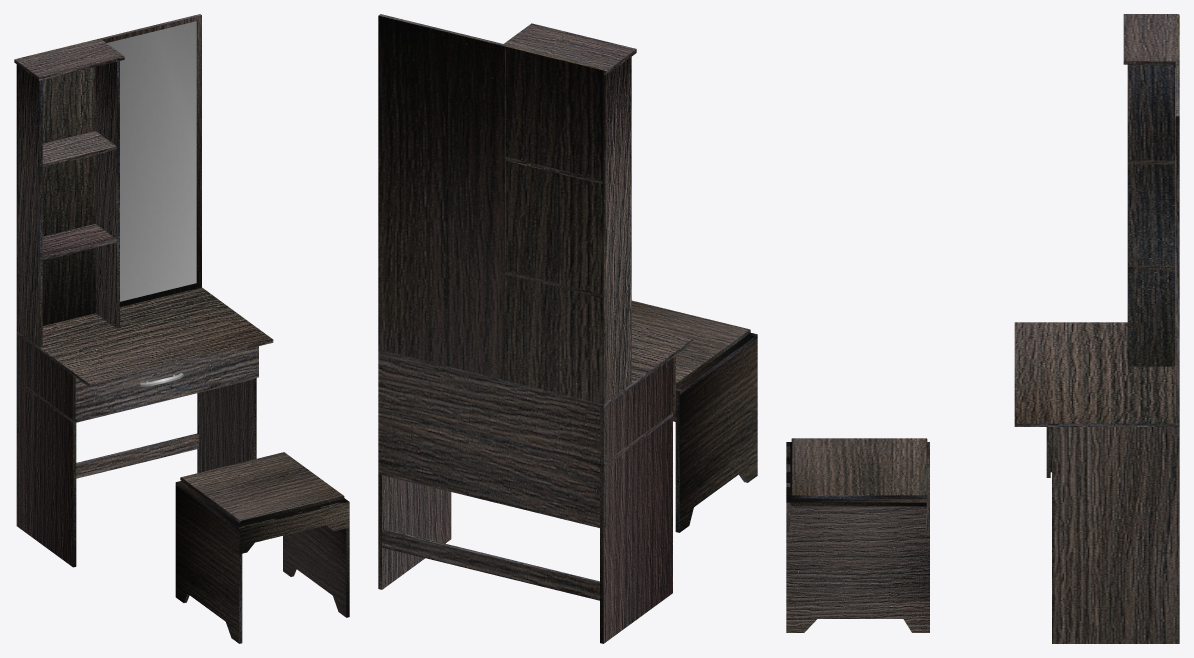
Rendered from dressing_table.obj.
The picture shows the model from 3 angles, left to right: view 1: azimuth 30°, elevation 25°; view 2: azimuth 150°, elevation 25°; view 3: azimuth 270°, elevation 25°; orthographic projection. The views are drawn at different scales.
Parts seen in each view (by area): view 1: Box010, Box025, Box017; view 2: Box010, Box025; view 3: Box010, Box025.
Part boxes in pixels (x1,y1,x2,y2): Box010: (14, 14, 273, 567); Box025: (175, 452, 349, 643); Box017: (107, 21, 196, 301); Box010: (378, 14, 693, 643); Box025: (631, 300, 757, 532); Box010: (1014, 14, 1179, 643); Box025: (786, 438, 929, 632).
Bounding box in the file's own units: 30.38 × 73.34 × 49.29.
4 materials, 4 textured.
